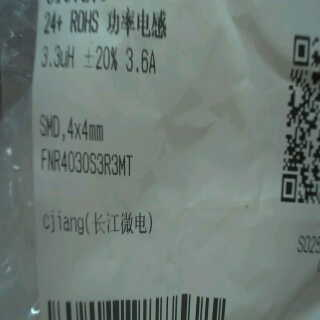3.3uH: (38, 35, 77, 75)
